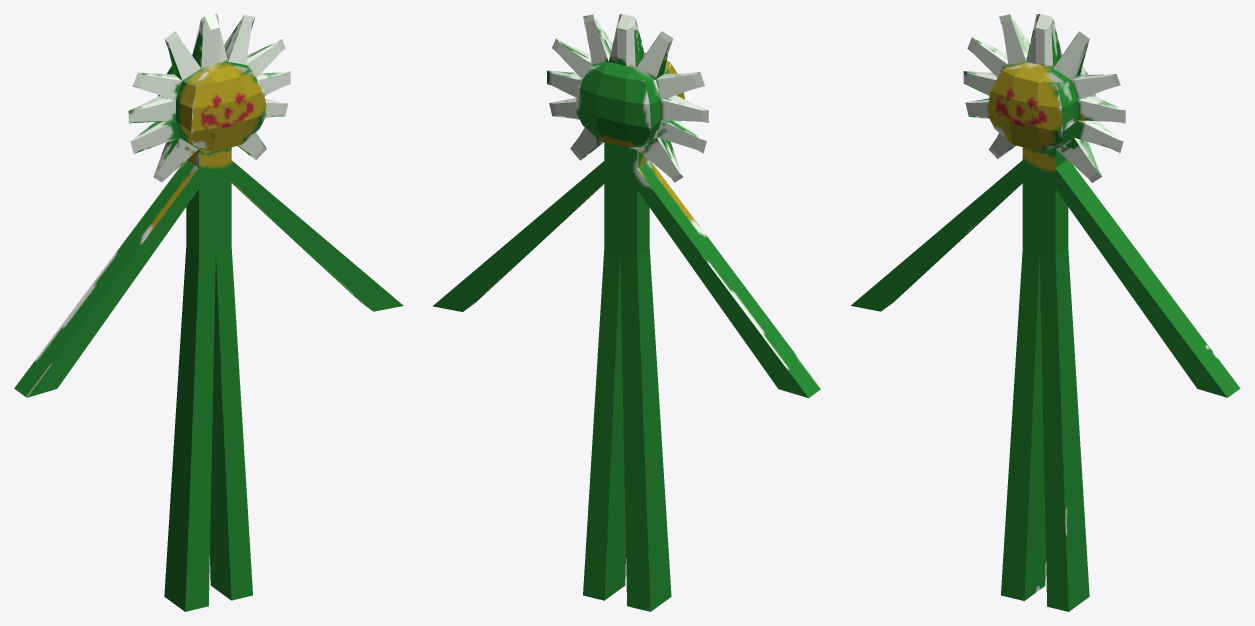
Rendered from character1.glb.
3 views of the same model, side by side, from view 1: azimuth 30°, elevation 25°; view 2: azimuth 150°, elevation 25°; view 3: azimuth 330°, elevation 25° (orthographic).
Parts seen in each view (by area): view 1: Cube; view 2: Cube; view 3: Cube.
Boxes of the visible parts, <box> form: Cube: <box>14,14,403,611</box>; Cube: <box>433,14,821,611</box>; Cube: <box>850,14,1240,611</box>.
Size of the model in its own units: 7.67 by 11.29 by 1.36.
Materials: 1 (1 with a texture image).
